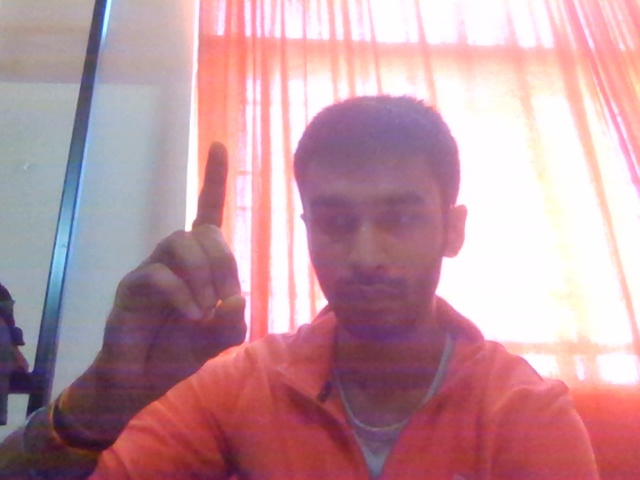D: (66, 111, 286, 400)
